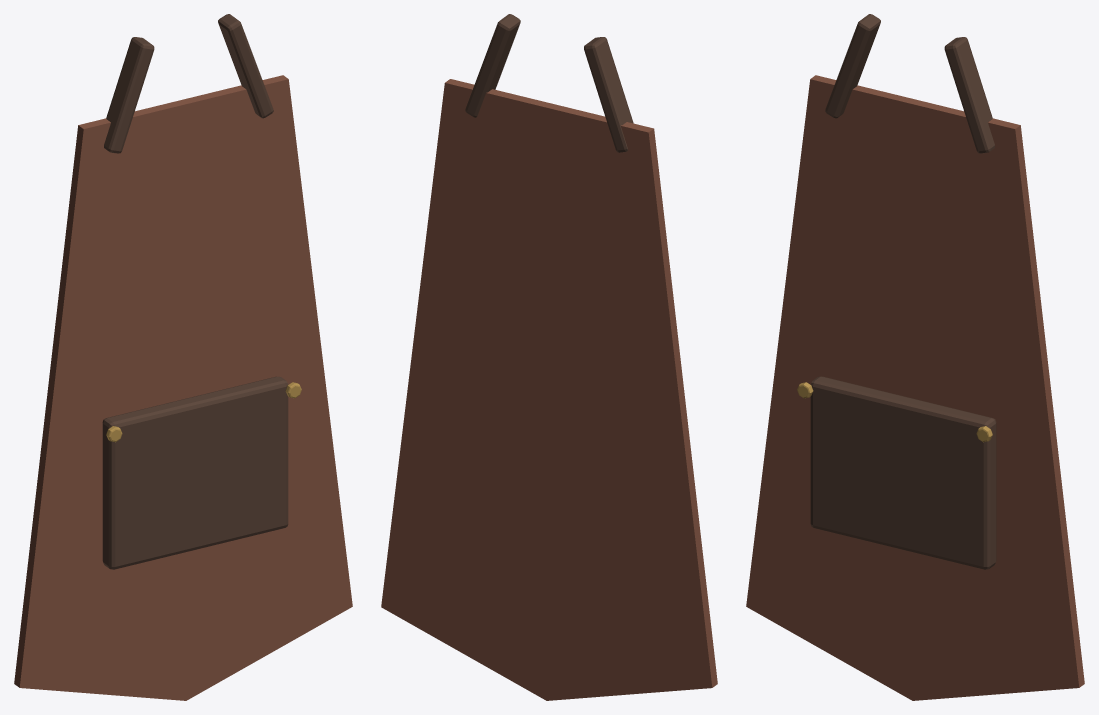
The model's file is profession_smith_apron.glb.
The picture shows the model from 3 angles, left to right: view 1: azimuth 30°, elevation 25°; view 2: azimuth 150°, elevation 25°; view 3: azimuth 330°, elevation 25°; orthographic projection.
Parts seen in each view (by area): view 1: profession_smith_apron; view 2: profession_smith_apron; view 3: profession_smith_apron.
Part boxes in pixels (<box>): profession_smith_apron: <box>14,14,352,700</box>; profession_smith_apron: <box>381,14,717,700</box>; profession_smith_apron: <box>746,14,1084,700</box>.
Bounding box in the file's own units: 0.52 × 1 × 0.0705.
